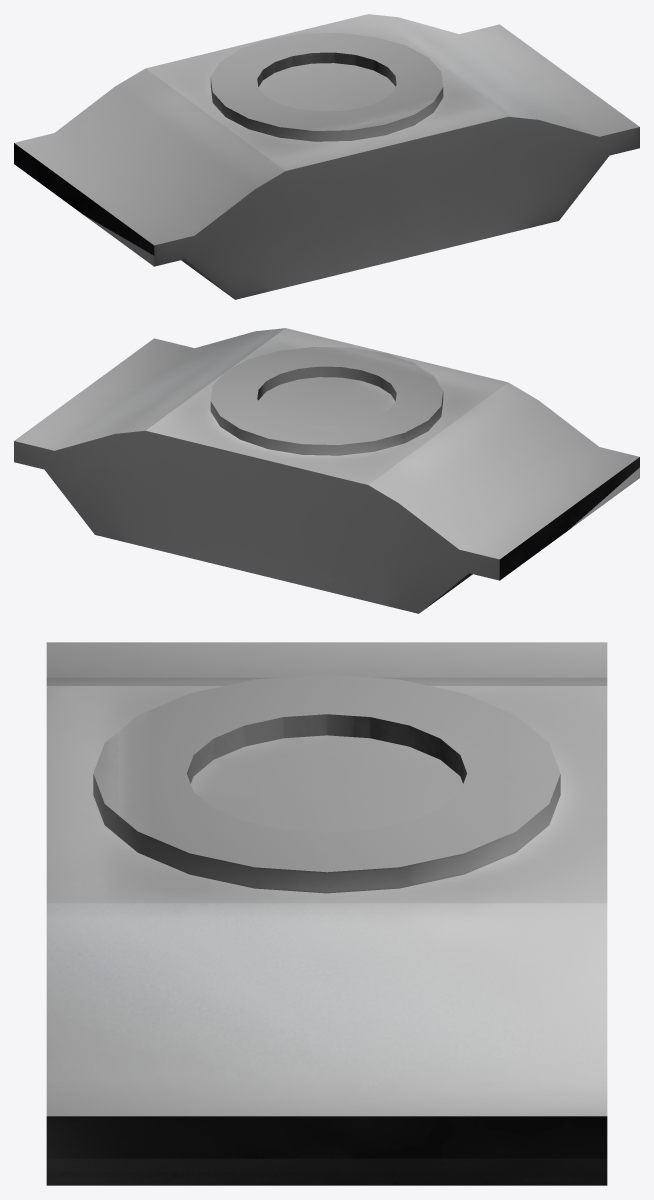
Rendered from Zaxis.obj.
3 views of the same model, one above another, from view 1: azimuth 30°, elevation 25°; view 2: azimuth 150°, elevation 25°; view 3: azimuth 270°, elevation 25° (orthographic). The views are drawn at different scales.
Parts seen in each view (by area): view 1: STC800_Zzhou; view 2: STC800_Zzhou; view 3: STC800_Zzhou.
Part boxes in pixels (box(x1,y1,x2,y2)): STC800_Zzhou: box(14, 14, 639, 299); STC800_Zzhou: box(14, 328, 639, 613); STC800_Zzhou: box(46, 642, 607, 1185).
Size of the model in its own units: 4.8 by 1.2 by 2.4.
Materials: 1 (1 with a texture image).
